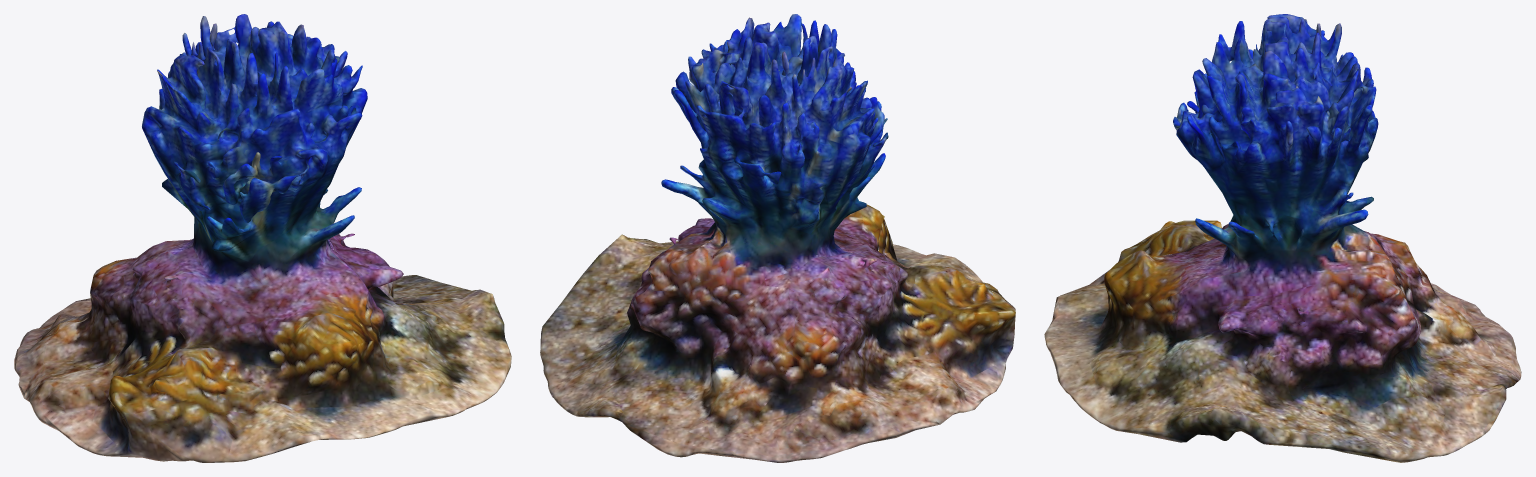
Rendered from blue_sea_anemone_l.glb.
3 views of the same model, side by side, from view 1: azimuth 30°, elevation 25°; view 2: azimuth 150°, elevation 25°; view 3: azimuth 270°, elevation 25° (orthographic). The views are drawn at different scales.
Parts seen in each view (by area): view 1: Object_4; view 2: Object_4; view 3: Object_4.
Boxes of the visible parts, <box> form: Object_4: <box>14,14,511,462</box>; Object_4: <box>540,14,1015,462</box>; Object_4: <box>1044,14,1521,462</box>.
Bounding box in the file's own units: 1.68 × 1.36 × 1.68.
1 material, 1 textured.
